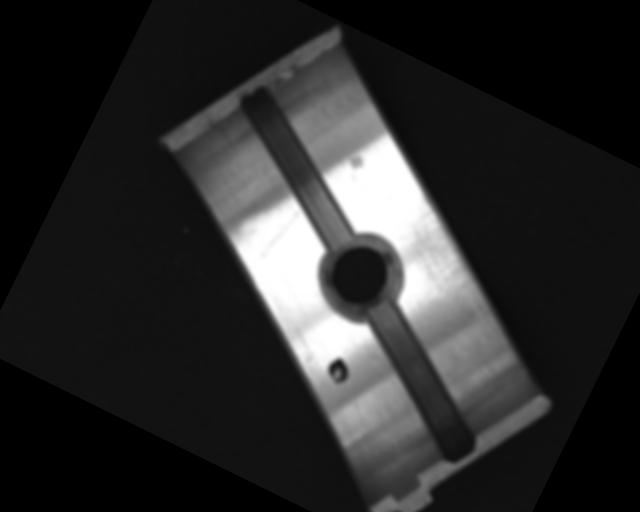blot: (321, 353, 355, 388)
bruise: (344, 150, 368, 174)
gap: (197, 79, 394, 257), (323, 293, 515, 468)
hole: (302, 218, 417, 334)
nick: (257, 204, 299, 266)
scratch: (377, 188, 537, 333)
